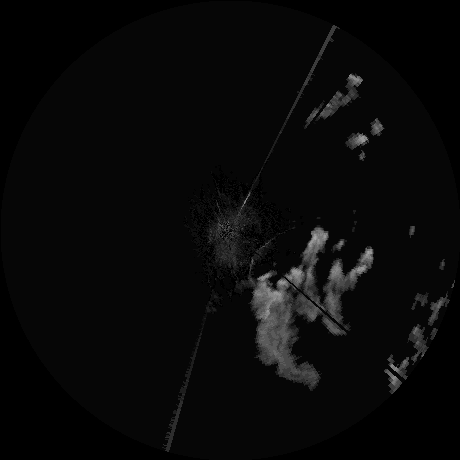frontgust: (247, 239, 271, 284)
